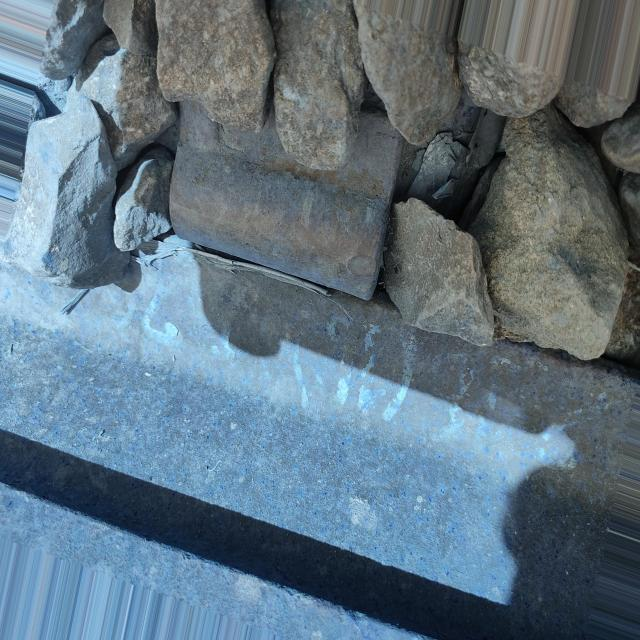Missing Fastener: (169, 101, 403, 299)
